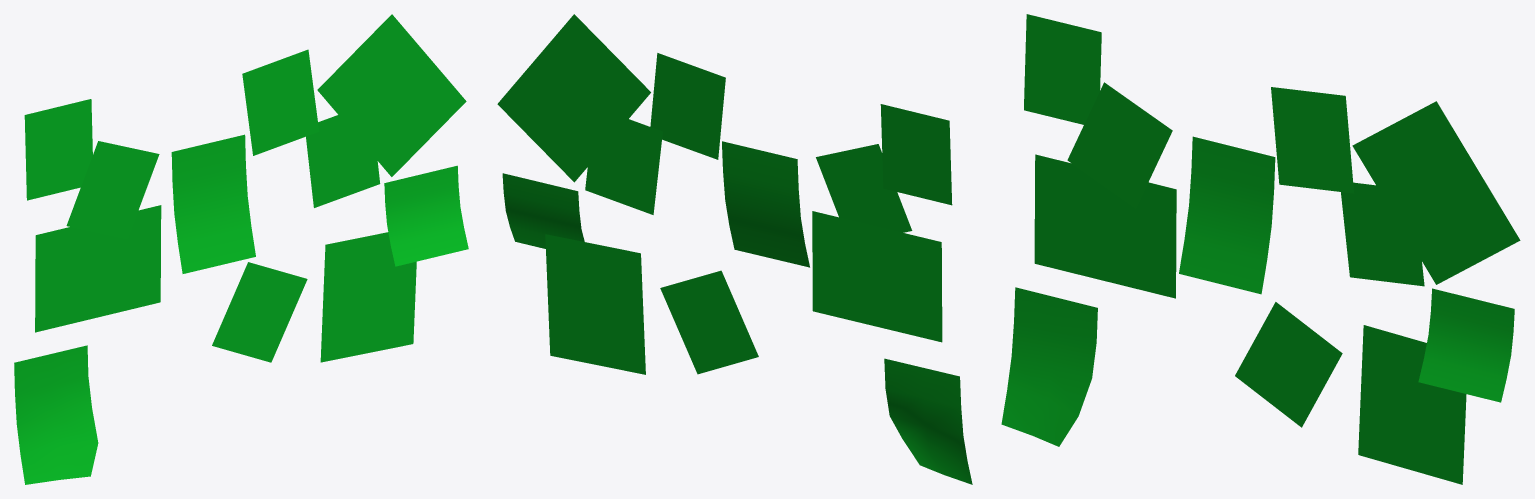
The model's file is NotesOnBoard.FBX.
The picture shows the model from 3 angles, left to right: view 1: azimuth 30°, elevation 25°; view 2: azimuth 150°, elevation 25°; view 3: azimuth 330°, elevation 25°; orthographic projection. The views are drawn at different scales.
Visible parts, largest first — view 1: NotesOnBoard; view 2: NotesOnBoard; view 3: NotesOnBoard.
Part boxes in pixels (x1,y1,x2,y2): NotesOnBoard: (14,14,468,484); NotesOnBoard: (497,14,972,484); NotesOnBoard: (1001,14,1520,484).
Bounding box in the file's own units: 133 × 105 × 9.64.
